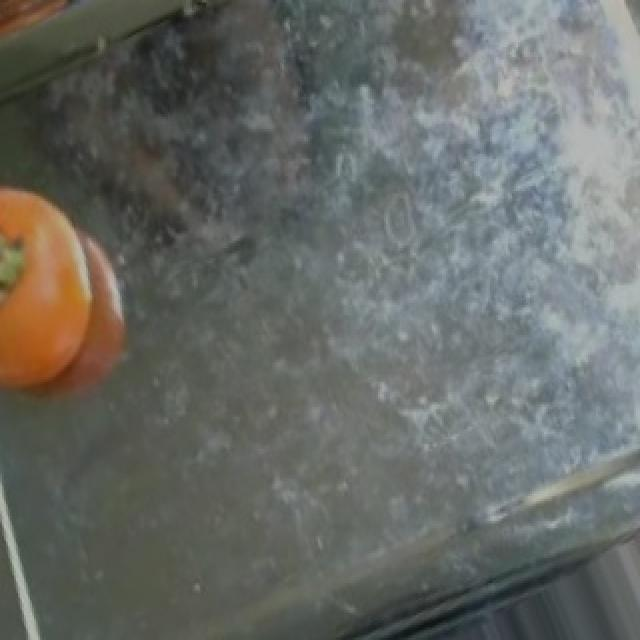Fruit: (0, 168, 156, 432), (0, 0, 110, 64)
